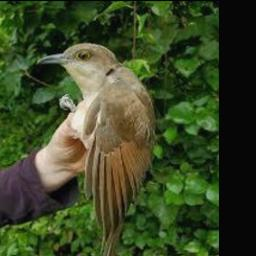Cuckoo: (37, 43, 156, 256)
